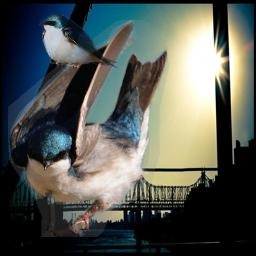Swallow: (8, 20, 170, 237), (38, 13, 119, 68)
